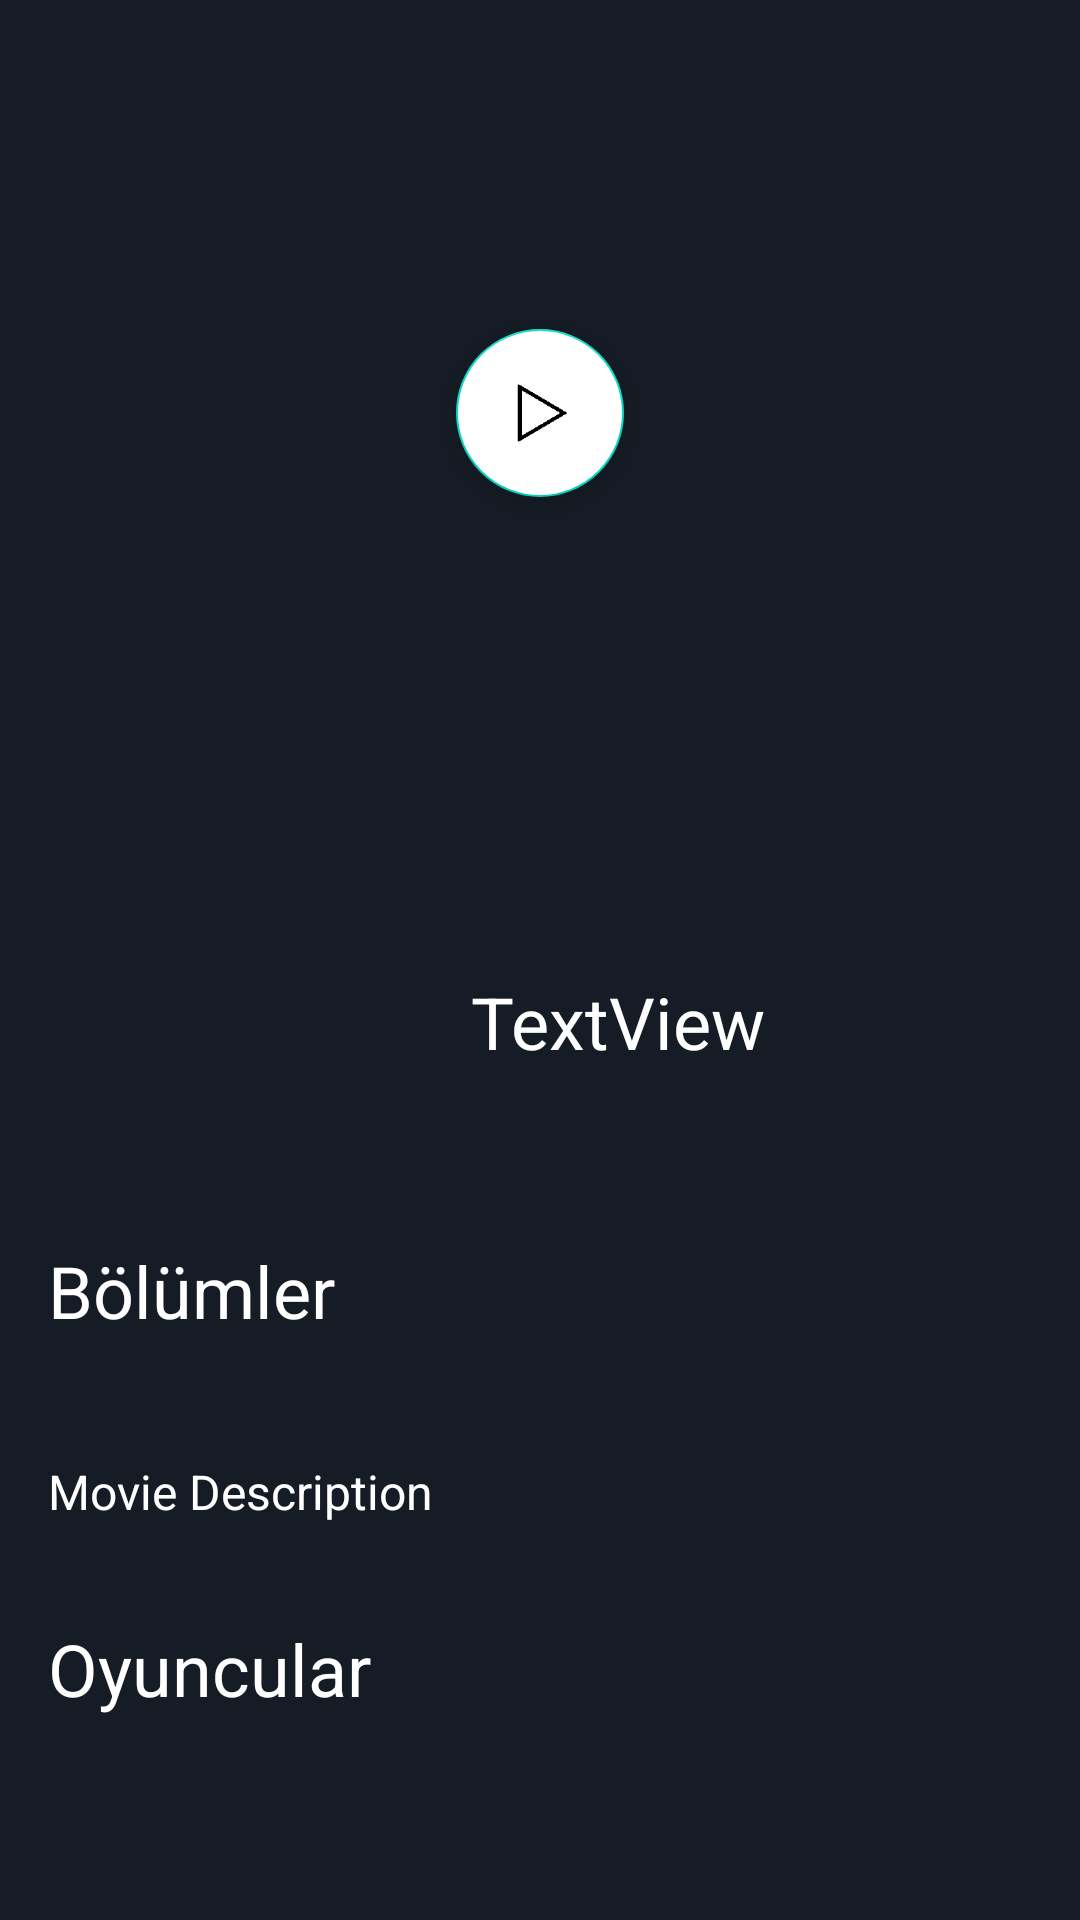

Where to tap for icons on this 1080 × 1920 app screen, as (x=x, y=y):
play: (x=540, y=413)
